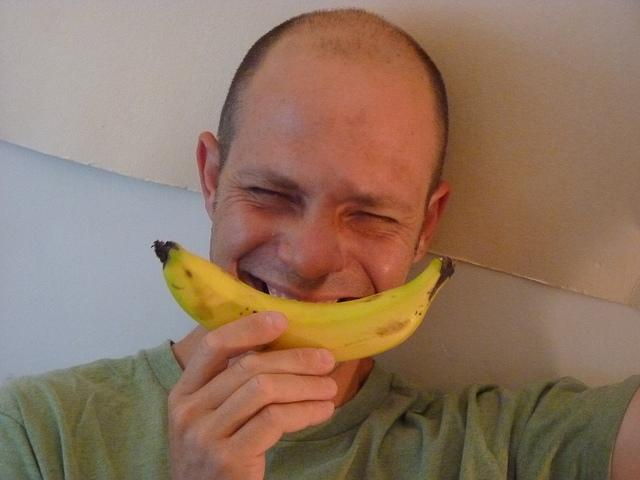banana: (152, 238, 456, 362)
